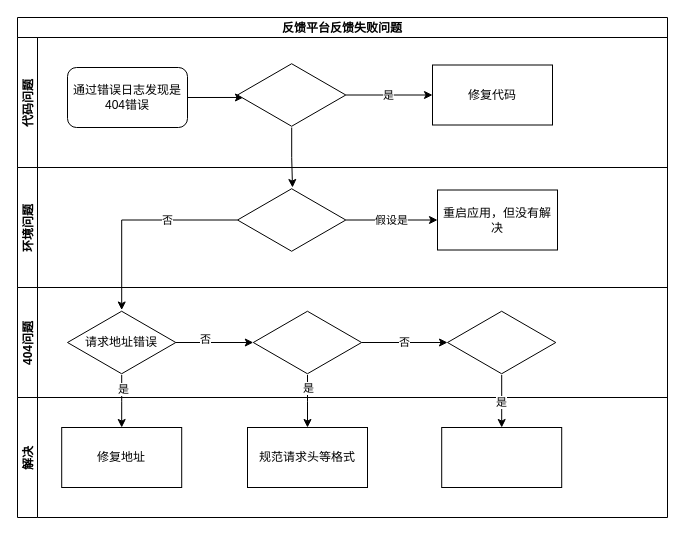
This 685x535 diagram has some shape labels left out. Each missing label, with the centre of its shape:
修改正确的host: point 501,457
是否是代码问题: point 291,95
请求地址配置了host: point 501,342
请求数据类型格式: point 307,342
鲸云环境问题: point 291,219
